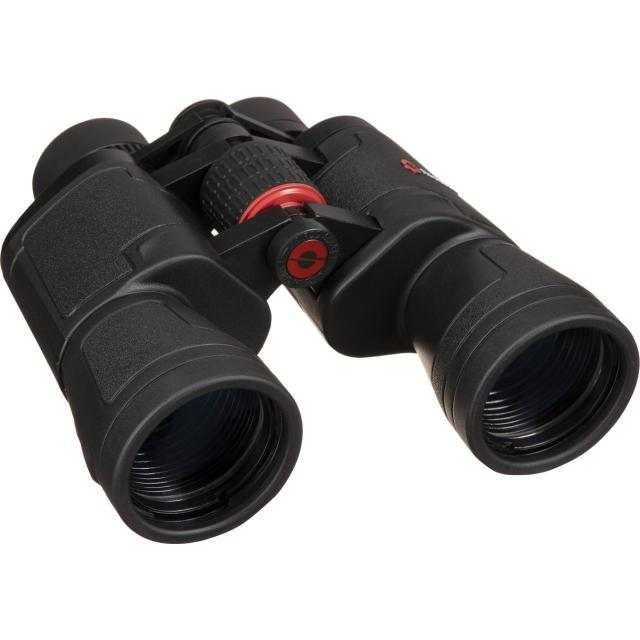Binocular: (2, 74, 640, 548)
